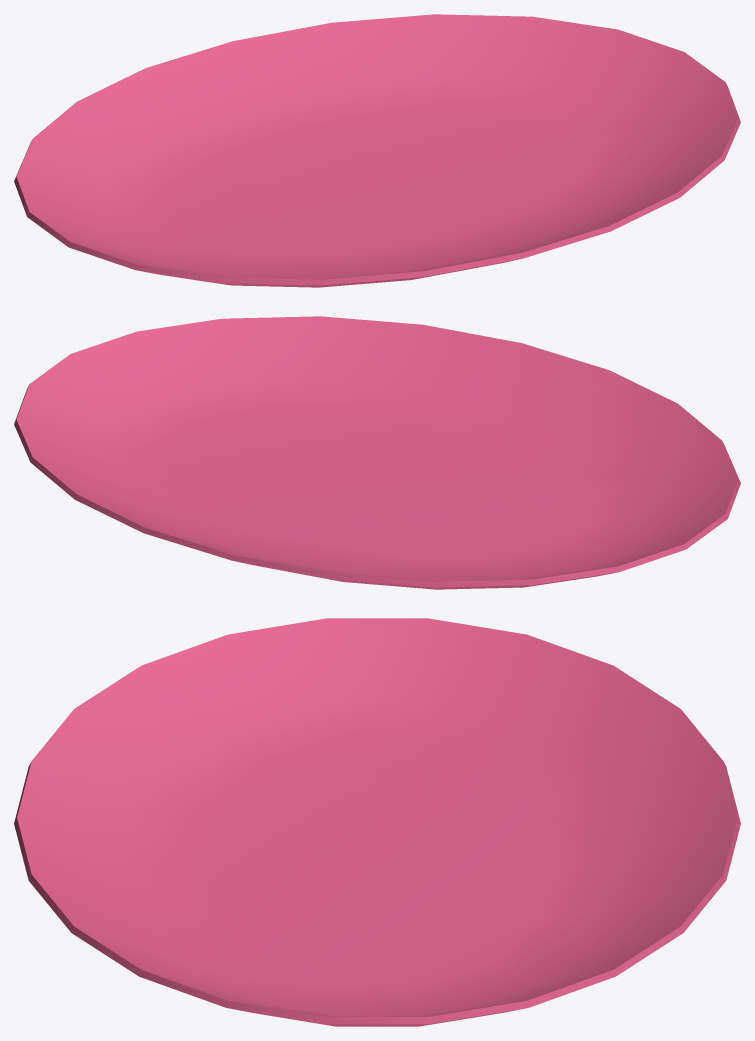
File: Tableware_V5_1.fbx
3 renders of one model, top to bottom at view 1: azimuth 30°, elevation 25°; view 2: azimuth 150°, elevation 25°; view 3: azimuth 270°, elevation 25°, orthographic. The views are drawn at different scales.
Parts seen in each view (by area): view 1: SM_Tableware_V5_1; view 2: SM_Tableware_V5_1; view 3: SM_Tableware_V5_1.
Boxes of the visible parts, bbox=[...] form: SM_Tableware_V5_1: bbox=[14, 14, 740, 287]; SM_Tableware_V5_1: bbox=[14, 316, 740, 589]; SM_Tableware_V5_1: bbox=[14, 618, 740, 1026].
Size of the model in its own units: 25.95 by 1.65 by 19.88.
